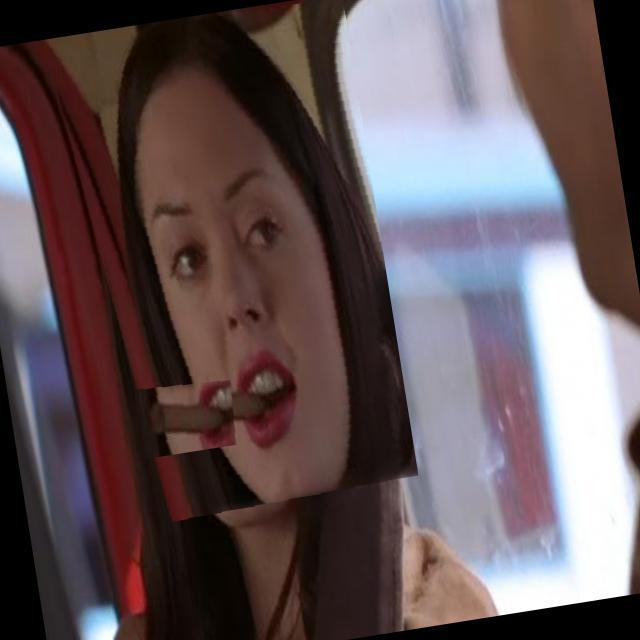cigarette: (134, 375, 240, 459)
